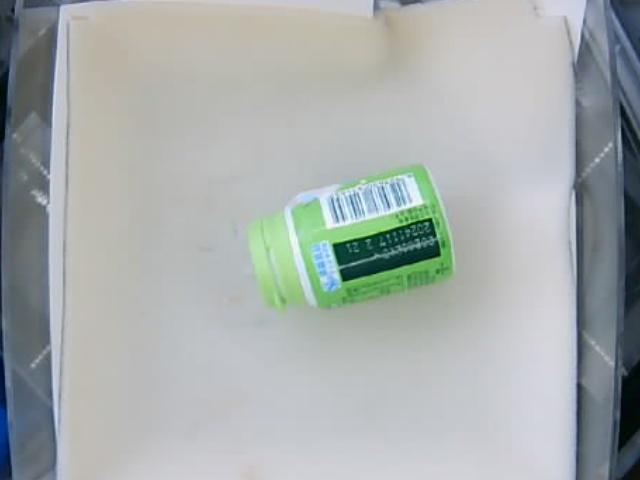Bottle: (251, 162, 458, 313)
